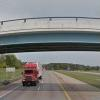Bridge: (4, 12, 97, 55)
